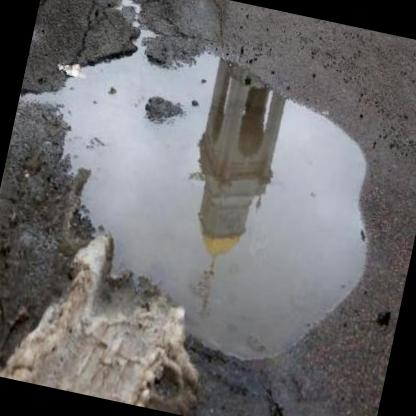pothole: (0, 9, 405, 381)
